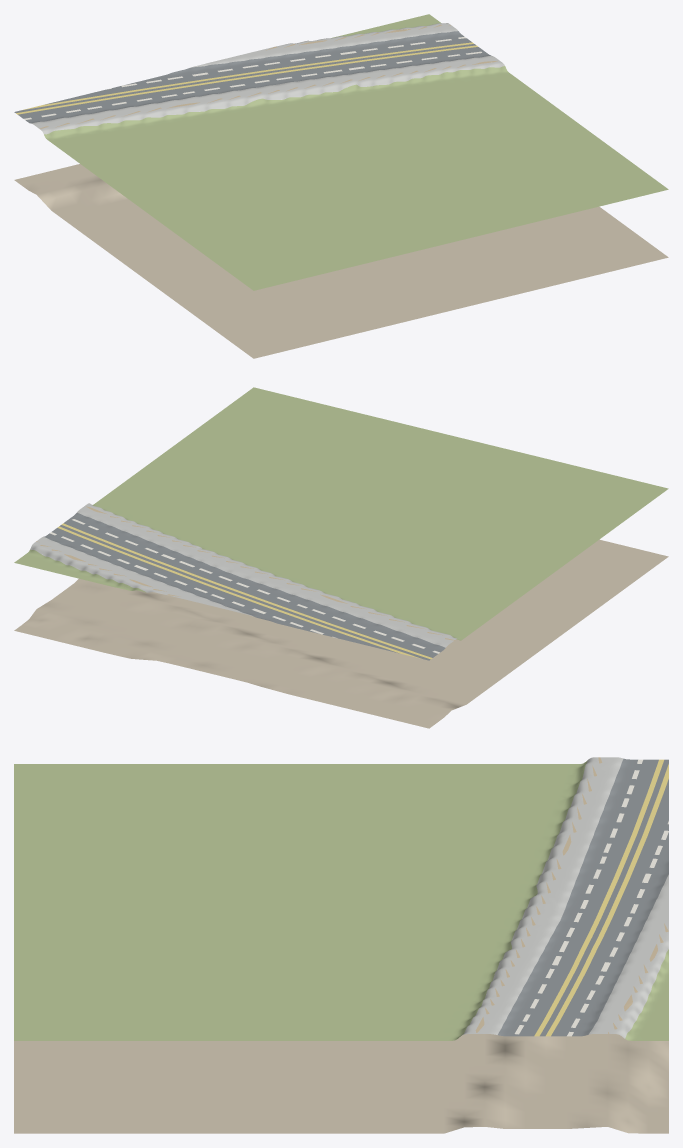
3 renders of one model, top to bottom at view 1: azimuth 30°, elevation 25°; view 2: azimuth 150°, elevation 25°; view 3: azimuth 270°, elevation 25°, orthographic. The views are drawn at different scales.
Visible parts, largest first — view 1: s_-4_1__grass, s_-4_1__soil, s_-4_1__asphalt, s_-4_1__stone_paving, s_-4_1__yellow_marking, s_-4_1__white_marking, s_-4_1__timber_deck; view 2: s_-4_1__grass, s_-4_1__soil, s_-4_1__asphalt, s_-4_1__stone_paving, s_-4_1__yellow_marking, s_-4_1__white_marking, s_-4_1__timber_deck; view 3: s_-4_1__grass, s_-4_1__soil, s_-4_1__asphalt, s_-4_1__stone_paving, s_-4_1__yellow_marking, s_-4_1__white_marking, s_-4_1__timber_deck.
Part boxes in pixels (x1=…): s_-4_1__grass: x1=44, y1=14, x2=668, y2=290; s_-4_1__soil: x1=14, y1=164, x2=668, y2=358; s_-4_1__asphalt: x1=14, y1=31, x2=490, y2=123; s_-4_1__stone_paving: x1=31, y1=23, x2=504, y2=134; s_-4_1__yellow_marking: x1=16, y1=42, x2=478, y2=114; s_-4_1__white_marking: x1=24, y1=36, x2=481, y2=120; s_-4_1__timber_deck: x1=39, y1=24, x2=497, y2=128; s_-4_1__grass: x1=14, y1=387, x2=668, y2=640; s_-4_1__soil: x1=14, y1=539, x2=668, y2=728; s_-4_1__asphalt: x1=44, y1=513, x2=445, y2=660; s_-4_1__stone_paving: x1=30, y1=503, x2=456, y2=647; s_-4_1__yellow_marking: x1=57, y1=523, x2=432, y2=659; s_-4_1__white_marking: x1=50, y1=519, x2=439, y2=653; s_-4_1__timber_deck: x1=36, y1=506, x2=454, y2=640; s_-4_1__grass: x1=14, y1=761, x2=668, y2=1040; s_-4_1__soil: x1=14, y1=1030, x2=668, y2=1133; s_-4_1__asphalt: x1=498, y1=758, x2=668, y2=1036; s_-4_1__stone_paving: x1=462, y1=757, x2=668, y2=1038; s_-4_1__yellow_marking: x1=534, y1=759, x2=668, y2=1036; s_-4_1__white_marking: x1=514, y1=759, x2=668, y2=1036; s_-4_1__timber_deck: x1=475, y1=757, x2=668, y2=1033.
Bounding box in the file's own units: 128 × 21.51 × 128.
